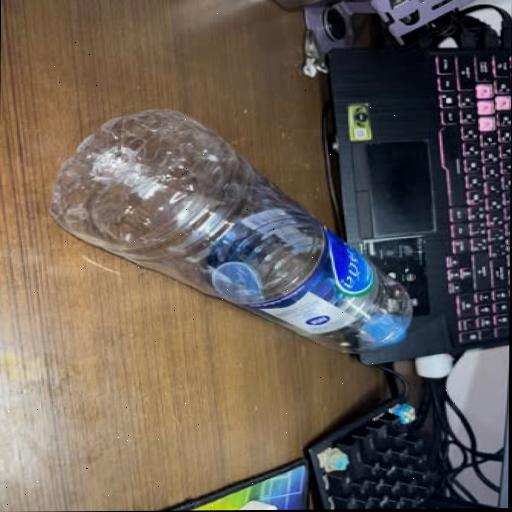bottle: (36, 89, 422, 392)
